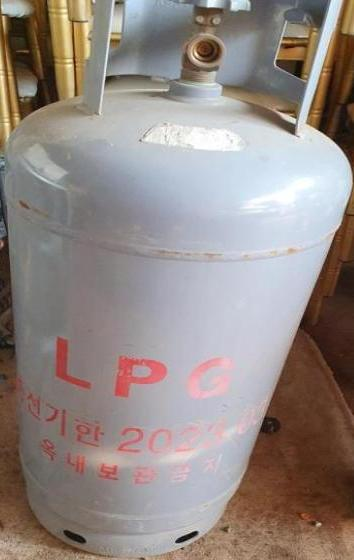cylinder: (1, 0, 354, 560)
